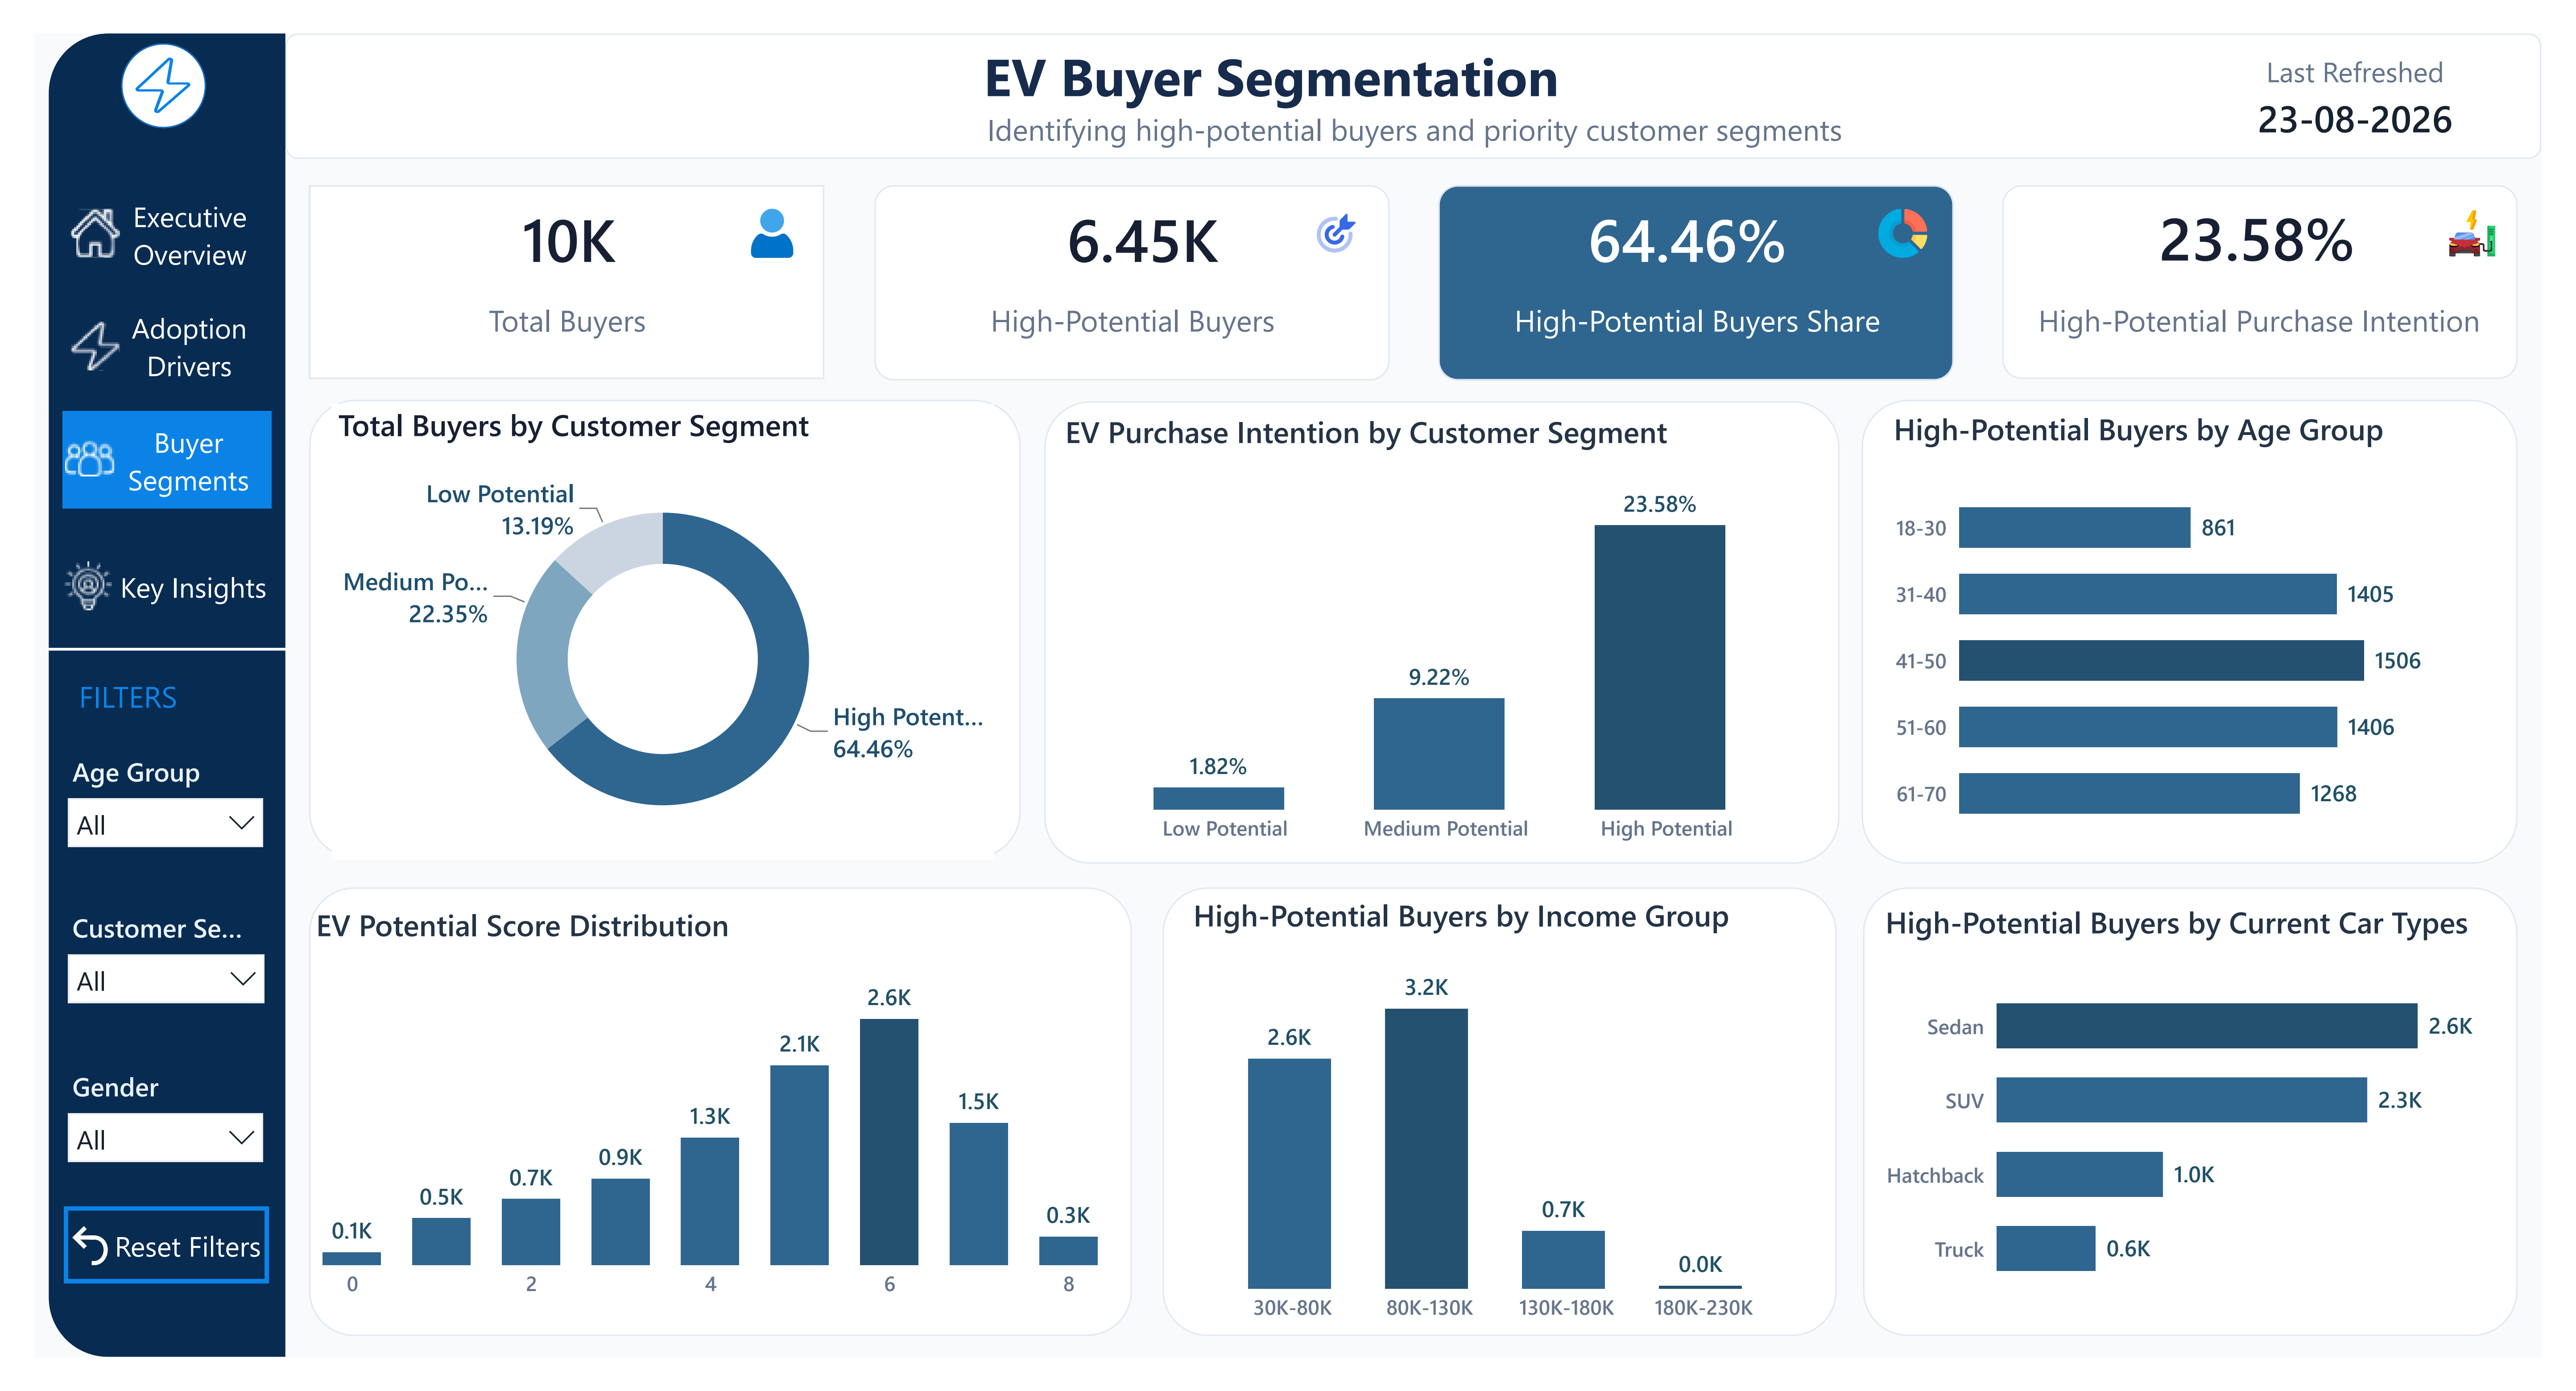

The dashboard page shown, as its layout file describes it:
{"tool":"powerbi","page":{"name":"Buyer Segmentation","canvas":[1800,950],"ordinal":2},"visuals":[{"type":"shape","box":[180.5,0,1619.1,90],"z":0},{"type":"shape","box":[62.2,6.9,60.5,60.5],"z":0,"group":"g1"},{"type":"image","box":[72.6,17.3,39.8,39.8],"z":1000,"group":"g1"},{"type":"shape","box":[1312.3,263.2,470.3,332.9],"z":1000},{"type":"shape","box":[10.2,0,170,950],"z":2000},{"type":"textbox","box":[658.9,0,458,66.4],"z":3000},{"type":"textbox","box":[674.2,49.4,633.3,39.2],"z":4000},{"type":"shape","box":[197.5,109,370,139.4],"z":5000},{"type":"shape","box":[602.7,109,370,140],"z":6000},{"type":"shape","box":[1007.9,109,370,139.6],"z":7000},{"type":"shape","box":[1413.1,109,370,139.4],"z":8000},{"type":"shape","box":[197.4,263.2,511,329],"z":9000},{"type":"shape","box":[810.4,612.9,483.5,321.8],"z":10000},{"type":"shape","box":[725.3,263.9,570.3,332],"z":11000},{"type":"shape","box":[197.5,612.9,590.8,321.8],"z":12000},{"type":"shape","box":[1312.6,612.9,469.9,321.8],"z":13000},{"type":"cardVisual","fields":{"Data":["_Measures.Total Buyers"]},"box":[277.5,107.3,211.2,76],"z":14000},{"type":"textbox","box":[277.5,185.6,209.2,44.2],"z":15000},{"type":"cardVisual","fields":{"Data":["_Measures.High Potential Buyers"]},"box":[689.5,107.3,211.2,76.4],"z":16000},{"type":"textbox","box":[658.9,185.6,259.4,44.5],"z":17000},{"type":"cardVisual","fields":{"Data":["_Measures.High Potential Buyer Share"]},"box":[1084.5,107.3,205.8,76.1],"z":18000},{"type":"textbox","box":[1053.9,185.6,280,44.5],"z":19000},{"type":"cardVisual","fields":{"Data":["_Measures.High Potential Purchase Intention"]},"box":[1488,103.9,216.2,80],"z":20000},{"type":"textbox","box":[1428.4,185.6,338.7,44.5],"z":21000},{"type":"clusteredColumnChart","title":"EV Purchase Intention by Customer Segment","fields":{"Y":["_Measures.EV Purchase Intention Rate"],"Category":["ev_adoption.Customer Segment"]},"box":[735.5,270.7,556.7,320.1],"z":22000},{"type":"slicer","fields":{"Values":["ev_adoption.age_group"]},"box":[13.8,511.8,160.6,89],"z":23000},{"type":"slicer","fields":{"Values":["ev_adoption.Customer Segment"]},"box":[13.8,624.2,160.8,89.9],"z":24000},{"type":"slicer","fields":{"Values":["ev_adoption.gender"]},"box":[13.8,738.3,160.6,89],"z":25000},{"type":"actionButton","box":[20.7,842.1,147,55.3],"z":26000},{"type":"shape","box":[20.4,270.7,149.8,69.8],"z":27000},{"type":"group","id":"g1","title":"Group 1","box":[62.2,6.9,60.5,60.5],"z":28000},{"type":"actionButton","box":[25.9,108.9,145.2,69.2],"z":29000},{"type":"actionButton","box":[25.5,189,144.7,69.8],"z":30000},{"type":"actionButton","box":[22.1,270.7,150.4,69.2],"z":31000},{"type":"actionButton","box":[20.7,361.4,150.4,69.2],"z":32000},{"type":"shape","box":[10.4,435.7,169.5,12.1],"z":33000},{"type":"textbox","box":[10.4,456.5,114.1,38],"z":34000},{"type":"cardVisual","fields":{"Data":["_Measures.Last Refreshed"]},"box":[1535.4,0,262.8,89.9],"z":35000},{"type":"clusteredBarChart","title":"High-Potential Buyers by  Current Car Types","fields":{"Category":["ev_adoption.current_car_type"],"Y":["_Measures.High Potential Buyers"]},"box":[1323.9,623.2,443.2,294.2],"z":36000},{"type":"clusteredColumnChart","title":"EV Potential Score Distribution","fields":{"Category":["ev_adoption.EV Potential Score"],"Y":["_Measures.Total Buyers"]},"box":[197.5,624.8,575.4,292.8],"z":37000},{"type":"clusteredBarChart","title":"High-Potential Buyers by Age Group","fields":{"Category":["ev_adoption.age_group"],"Y":["_Measures.High Potential Buyers"]},"box":[1329.7,269,443.2,317.4],"z":38000},{"type":"donutChart","fields":{"Category":["ev_adoption.Customer Segment"],"Y":["_Measures.Total Buyers"]},"box":[212.8,265.6,476.1,327.1],"z":39000},{"type":"clusteredColumnChart","title":"High-Potential Buyers by Income Group","fields":{"Category":["ev_adoption.Income Group"],"Y":["_Measures.High Potential Buyers"]},"box":[827.4,618,447.8,316.7],"z":40000},{"type":"image","box":[918.2,126.2,34,34],"z":41000},{"type":"image","box":[1324.5,126.2,35,35],"z":42000},{"type":"image","box":[511.8,126.2,35,35],"z":43000},{"type":"image","box":[1732.6,126.2,35,35],"z":44000}]}

Visuals, with their boxes on the page's 1800x950 design canvas (x1, y1, x2, y2). These are canvas units, not pixel positions in the 2576x1391 screenshot, which may show the page scaled, cropped or inside an application window:
shape: [180, 0, 1800, 90]
shape: [62, 7, 123, 67]
image: [73, 17, 112, 57]
shape: [1312, 263, 1783, 596]
shape: [10, 0, 180, 950]
textbox: [659, 0, 1117, 66]
textbox: [674, 49, 1308, 89]
shape: [198, 109, 568, 248]
shape: [603, 109, 973, 249]
shape: [1008, 109, 1378, 249]
shape: [1413, 109, 1783, 248]
shape: [197, 263, 708, 592]
shape: [810, 613, 1294, 935]
shape: [725, 264, 1296, 596]
shape: [198, 613, 788, 935]
shape: [1313, 613, 1782, 935]
cardVisual - _Measures.Total Buyers: [278, 107, 489, 183]
textbox: [278, 186, 487, 230]
cardVisual - _Measures.High Potential Buyers: [690, 107, 901, 184]
textbox: [659, 186, 918, 230]
cardVisual - _Measures.High Potential Buyer Share: [1084, 107, 1290, 183]
textbox: [1054, 186, 1334, 230]
cardVisual - _Measures.High Potential Purchase Intention: [1488, 104, 1704, 184]
textbox: [1428, 186, 1767, 230]
"EV Purchase Intention by Customer Segment" clusteredColumnChart: [736, 271, 1292, 591]
slicer - ev_adoption.age_group: [14, 512, 174, 601]
slicer - ev_adoption.Customer Segment: [14, 624, 175, 714]
slicer - ev_adoption.gender: [14, 738, 174, 827]
actionButton: [21, 842, 168, 897]
shape: [20, 271, 170, 340]
"Group 1" group: [62, 7, 123, 67]
actionButton: [26, 109, 171, 178]
actionButton: [26, 189, 170, 259]
actionButton: [22, 271, 172, 340]
actionButton: [21, 361, 171, 431]
shape: [10, 436, 180, 448]
textbox: [10, 456, 124, 494]
cardVisual - _Measures.Last Refreshed: [1535, 0, 1798, 90]
"High-Potential Buyers by  Current Car Types" clusteredBarChart: [1324, 623, 1767, 917]
"EV Potential Score Distribution" clusteredColumnChart: [198, 625, 773, 918]
"High-Potential Buyers by Age Group" clusteredBarChart: [1330, 269, 1773, 586]
donutChart - ev_adoption.Customer Segment x _Measures.Total Buyers: [213, 266, 689, 593]
"High-Potential Buyers by Income Group" clusteredColumnChart: [827, 618, 1275, 935]
image: [918, 126, 952, 160]
image: [1324, 126, 1360, 161]
image: [512, 126, 547, 161]
image: [1733, 126, 1768, 161]
